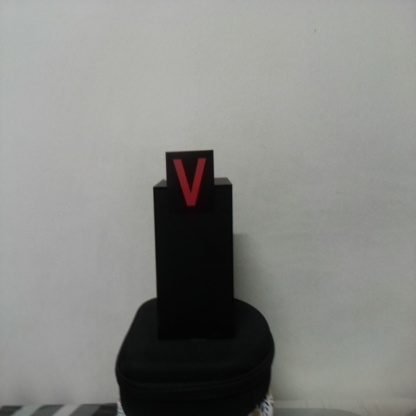id_11: (166, 150, 215, 217)
